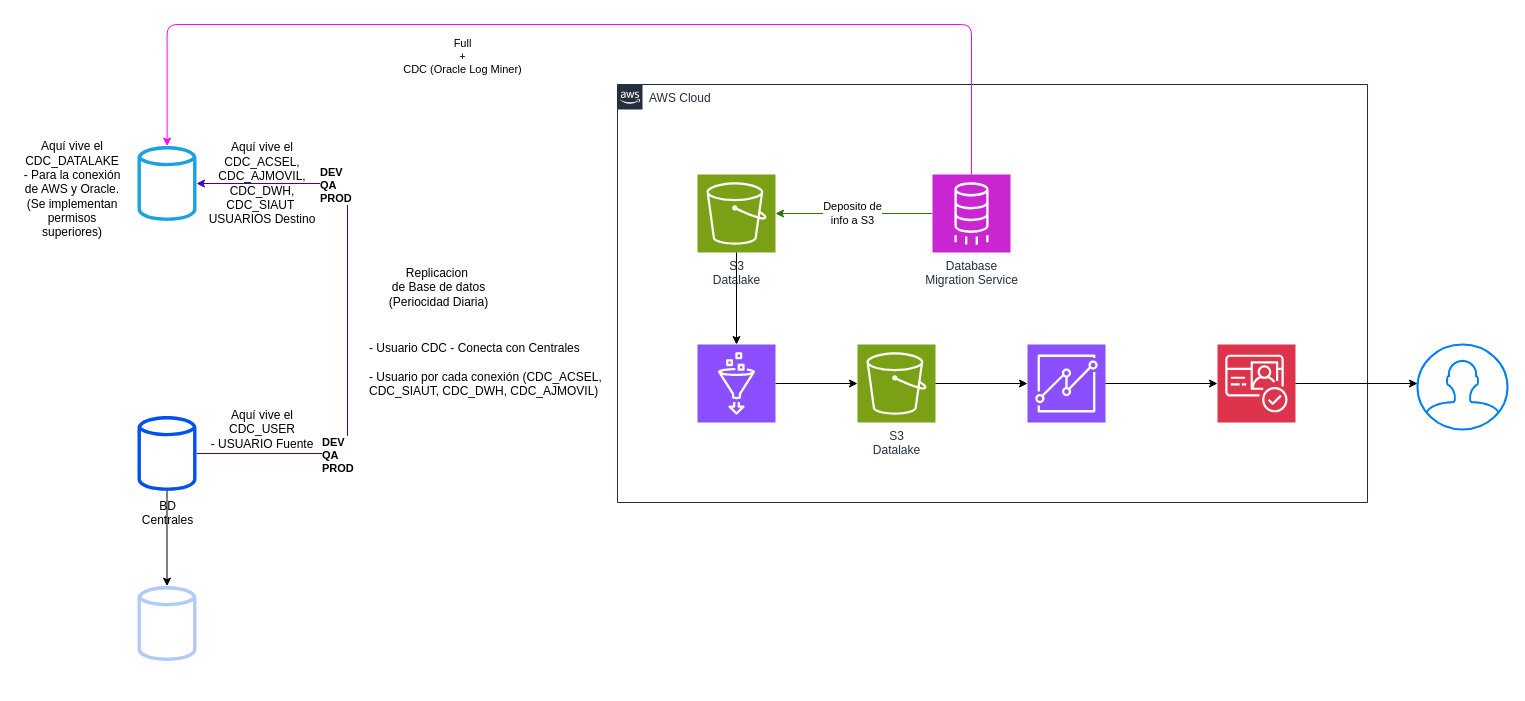
Some shapes in this 1525 by 701 pixel diagram are drawn without their labels. Each missing label, with the box of its shape:
BD Vistas Materializadas DMSDV01: (136, 144, 196, 222)
MLOG$: (136, 584, 196, 662)
